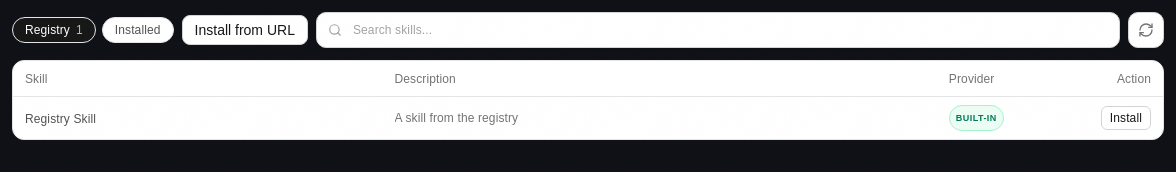
it: SkillsExplorerTab › searches catalog via RPC when typing in search box
Check: the text "Registry Skill" is shown, box [25, 111, 96, 127]
Type "docker" into the search field with test id "skill-search-input" at {"x": 718, "y": 30}, box [316, 12, 1120, 48]
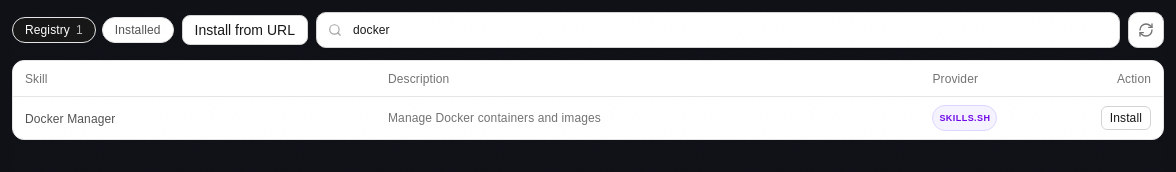
Check: the text "Docker Manager" is shown, box [25, 111, 115, 127]
